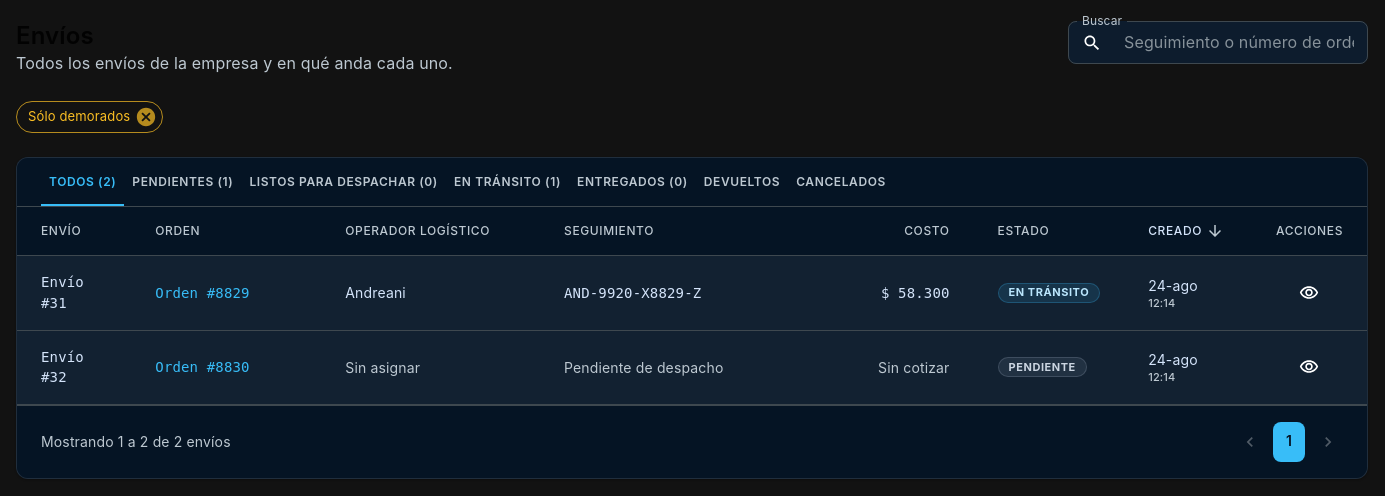
ShipmentsPage › the delayed filter › shows the filter, and clears it from the chip
The width and height of the screenshot is (1385, 496).
expect the text "Sólo demorados" is shown: met, box [28,108,130,124]
What coordinates should you click on to do the following:
click the button with aria-label "Quitar el filtro «Sólo demorados»"
I would click on:
 (90, 117)
Its box is [16,101,163,133].
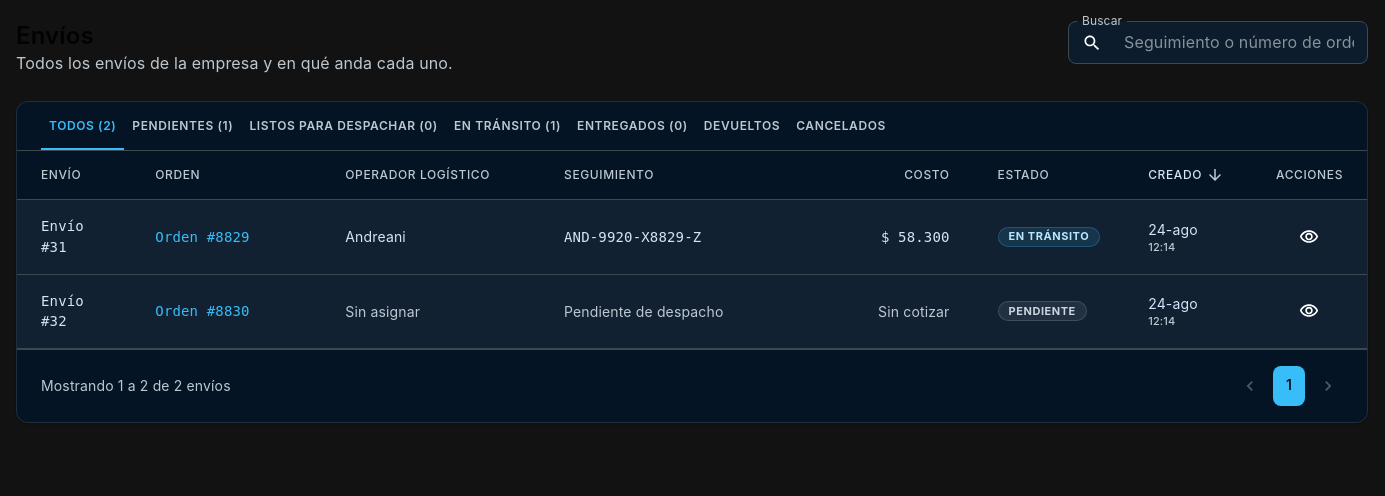
expect the button "Sólo demorados" is gone: met
